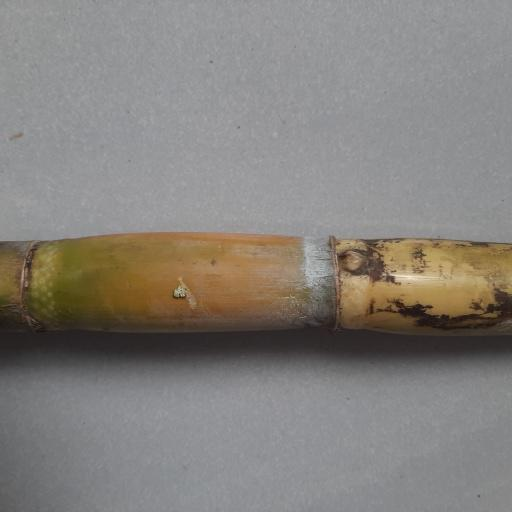Bud: (336, 249, 370, 273)
